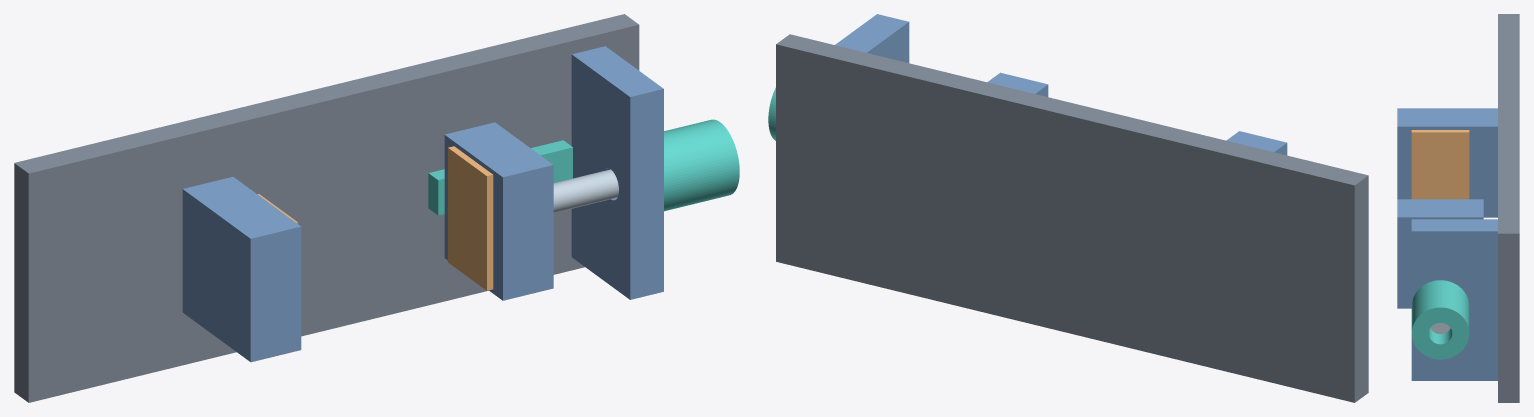
File: assembly.glb
3 renders of one model, left to right at view 1: azimuth 30°, elevation 25°; view 2: azimuth 150°, elevation 25°; view 3: azimuth 270°, elevation 25°, orthographic. The views are drawn at different scales.
Parts seen in each view (by area): view 1: base, actuator_support, fixed_jaw, moving_jaw, actuator_body, moving_pad, rod, rail_central; view 2: base, actuator_support, fixed_jaw, moving_jaw; view 3: actuator_support, base, fixed_jaw, fixed_pad, actuator_body, moving_jaw, rod.
Part boxes in pixels (bbox=[...]): base: bbox=[14, 14, 639, 402]; actuator_support: bbox=[571, 46, 663, 299]; fixed_jaw: bbox=[182, 177, 301, 362]; moving_jaw: bbox=[444, 122, 553, 300]; actuator_body: bbox=[664, 119, 739, 211]; moving_pad: bbox=[448, 146, 493, 290]; rod: bbox=[553, 169, 618, 212]; rail_central: bbox=[428, 140, 572, 215]; base: bbox=[776, 34, 1368, 402]; actuator_support: bbox=[835, 14, 909, 62]; fixed_jaw: bbox=[1226, 131, 1287, 155]; moving_jaw: bbox=[987, 72, 1048, 96]; actuator_support: bbox=[1411, 219, 1497, 380]; base: bbox=[1498, 14, 1519, 402]; fixed_jaw: bbox=[1397, 108, 1497, 217]; fixed_pad: bbox=[1411, 130, 1469, 199]; actuator_body: bbox=[1411, 280, 1469, 359]; moving_jaw: bbox=[1397, 199, 1483, 308]; rod: bbox=[1430, 323, 1450, 334].
Size of the model in its own units: 0.1548 by 0.052 by 0.034.
